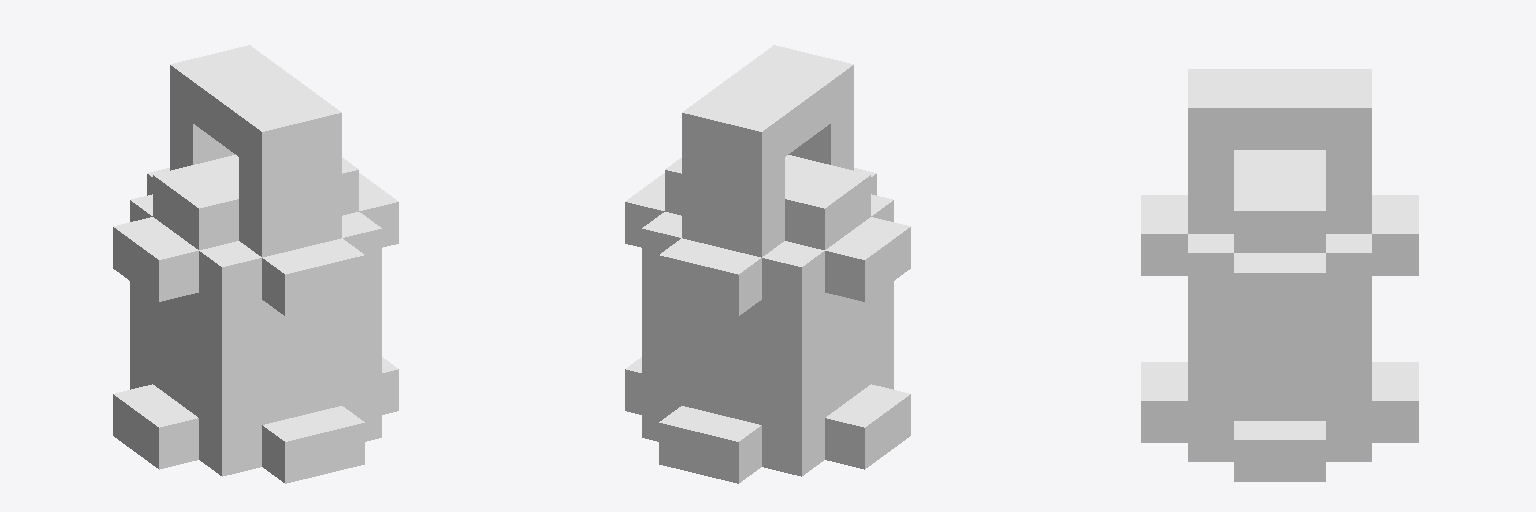
File: lantern.obj
The picture shows the model from 3 angles: view 1: azimuth 30°, elevation 25°; view 2: azimuth 150°, elevation 25°; view 3: azimuth 270°, elevation 25°; orthographic projection.
Visible parts, largest first — view 1: lantern; view 2: lantern; view 3: lantern.
Part boxes in pixels (x1,y1,x2,y2): lantern: (113, 45, 398, 483); lantern: (625, 45, 910, 483); lantern: (1141, 69, 1418, 481).
Size of the model in its own units: 8.31 by 11.07 by 8.31.